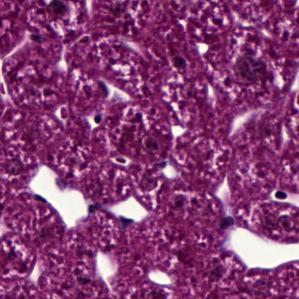inflammation: (88, 75, 132, 108), (267, 187, 292, 209), (108, 151, 133, 168)
